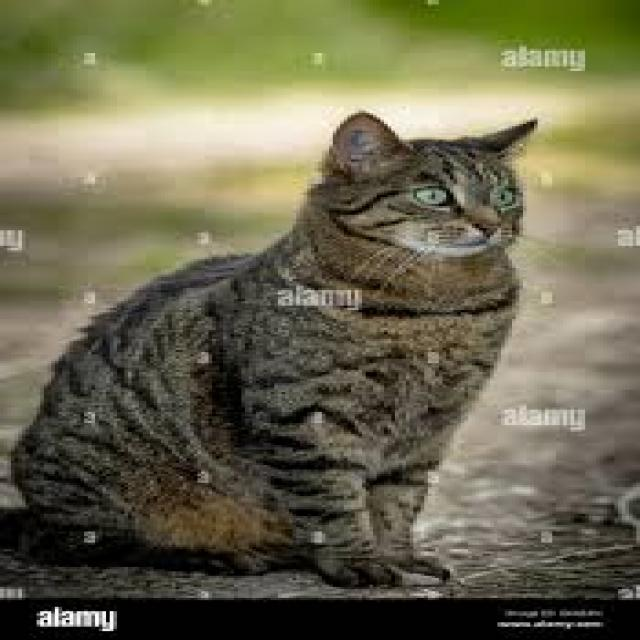Cat: (5, 107, 555, 592)
